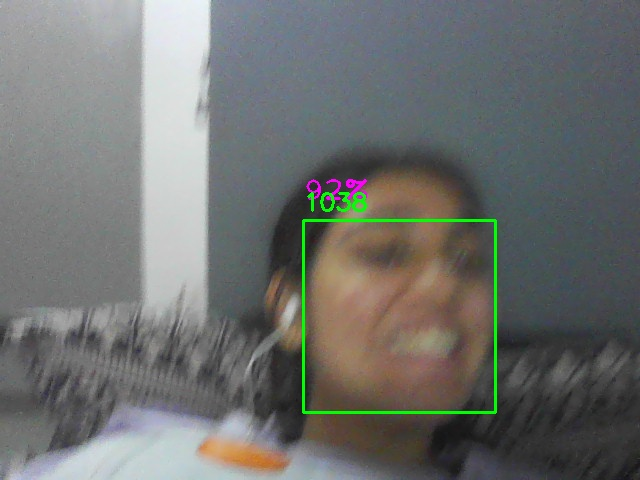real: (303, 220, 496, 413)
